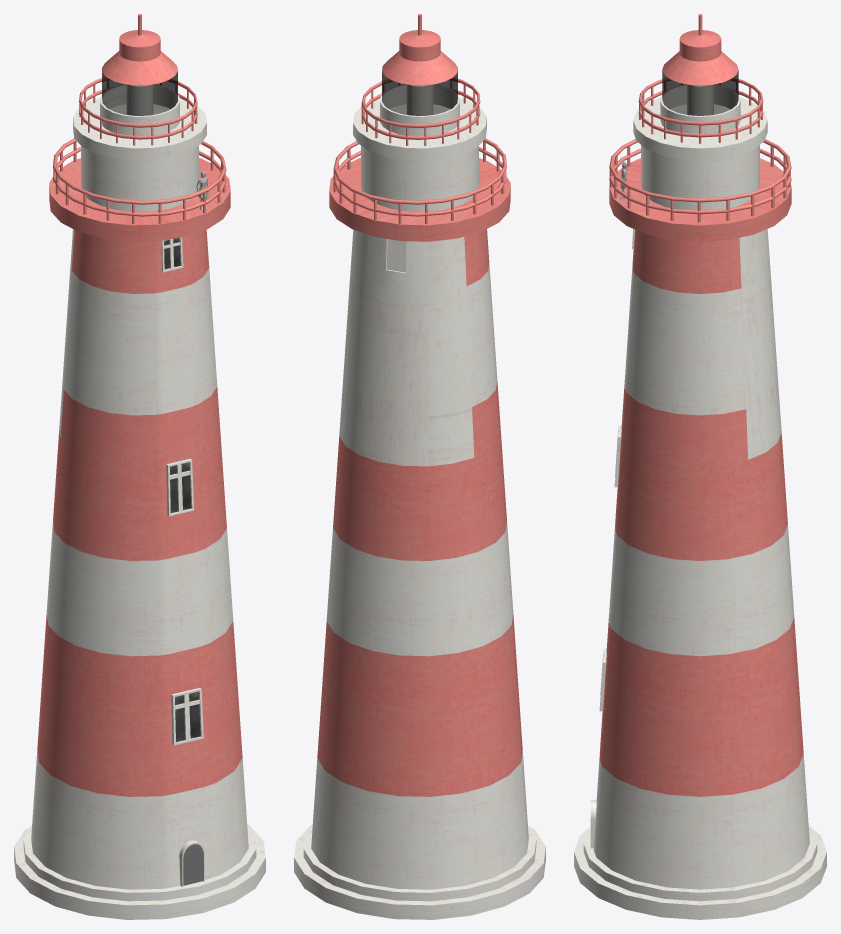
The model's file is light_house.glb.
The picture shows the model from 3 angles, left to right: view 1: azimuth 30°, elevation 25°; view 2: azimuth 150°, elevation 25°; view 3: azimuth 270°, elevation 25°; orthographic projection.
Visible parts, largest first — view 1: Tower1, Top, TopStanding, UpperBase, LightPart, UpperTopStanding, WalkBase, pTorus1 (×2), pTorus2 (×2), pCylinder1, Light; view 2: Tower1, Top, TopStanding, UpperBase, LightPart, UpperTopStanding, WalkBase, pTorus1 (×2), pTorus2 (×2), Light; view 3: Tower1, Top, TopStanding, UpperBase, LightPart, UpperTopStanding, WalkBase, pTorus1 (×2), pTorus2 (×2), Light.
Boxes of the visible parts, box(x1,y1,x2,y2) form: Tower1: box(31, 229, 248, 889); Top: box(100, 14, 179, 135); TopStanding: box(49, 157, 230, 241); UpperBase: box(14, 824, 265, 919); LightPart: box(81, 145, 198, 211); UpperTopStanding: box(73, 98, 206, 160); WalkBase: box(23, 826, 256, 901); pTorus1 (×2): box(53, 77, 226, 204); pTorus2 (×2): box(53, 87, 226, 216); pCylinder1: box(179, 840, 204, 886); Light: box(126, 84, 153, 115); Tower1: box(311, 229, 528, 889); Top: box(380, 14, 459, 136); TopStanding: box(329, 157, 510, 241); UpperBase: box(294, 824, 545, 919); LightPart: box(361, 145, 478, 211); UpperTopStanding: box(353, 98, 486, 160); WalkBase: box(303, 826, 536, 901); pTorus1 (×2): box(333, 77, 506, 204); pTorus2 (×2): box(334, 89, 506, 216); Light: box(406, 84, 433, 115); Tower1: box(593, 229, 809, 889); Top: box(660, 14, 740, 133); TopStanding: box(609, 158, 791, 241); UpperBase: box(574, 826, 826, 919); LightPart: box(641, 145, 759, 210); UpperTopStanding: box(633, 97, 767, 160); WalkBase: box(583, 826, 817, 901); pTorus1 (×2): box(609, 78, 791, 202); pTorus2 (×2): box(609, 89, 791, 214); Light: box(687, 84, 713, 115).
Bounding box in the file's own units: 3.95 × 14.66 × 3.95.
Materials: 7 (3 with a texture image).
